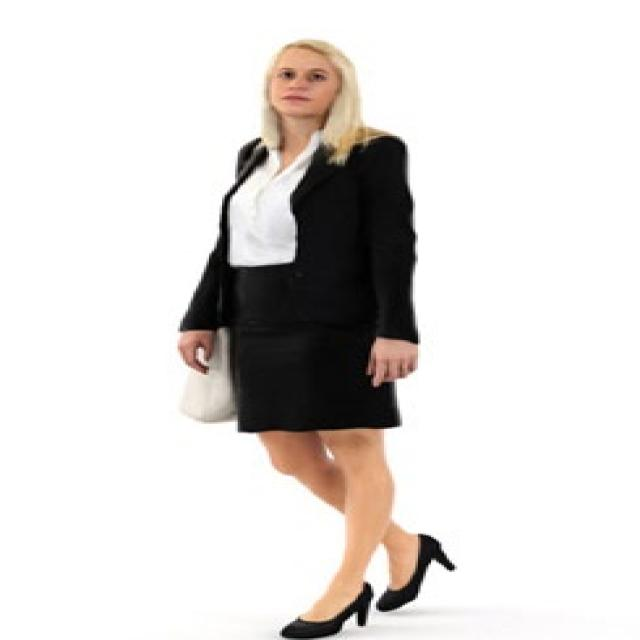standing: (170, 37, 464, 640)
